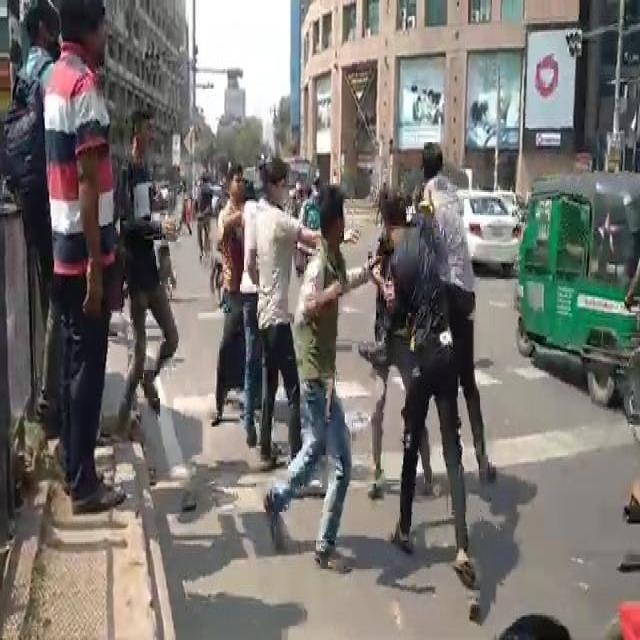fight: (216, 116, 510, 536), (8, 0, 124, 523)
